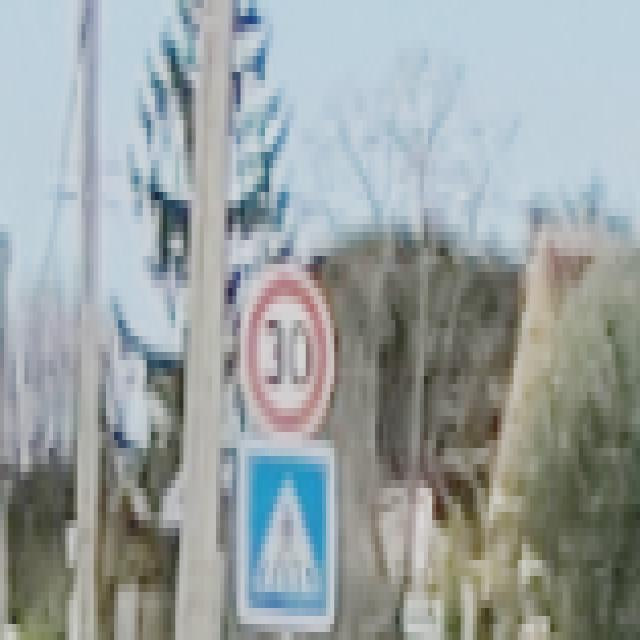speed_30: (236, 263, 336, 442)
